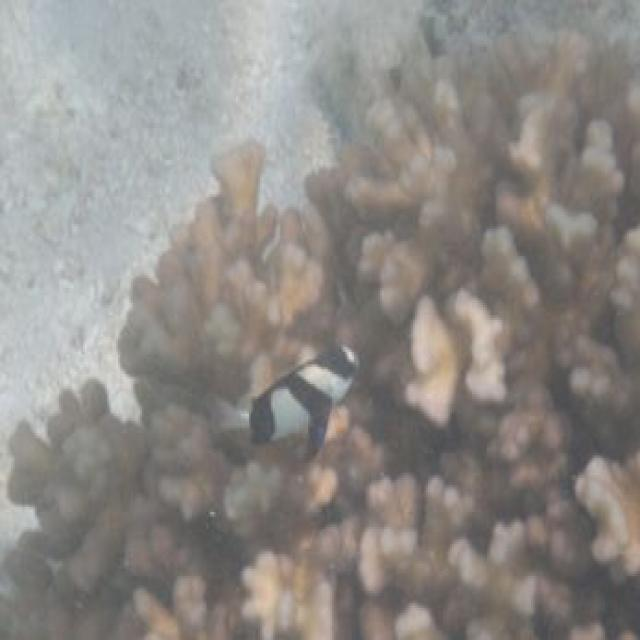Three_striped DasmselFish: (223, 340, 356, 454)
